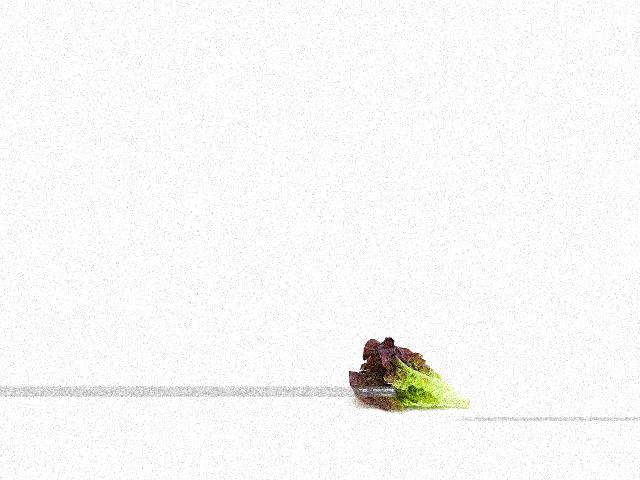lettuce: (346, 336, 474, 416)
